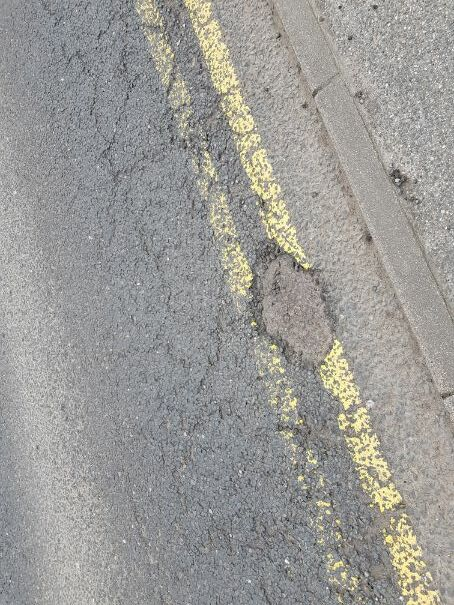pothole: (244, 236, 343, 370)
